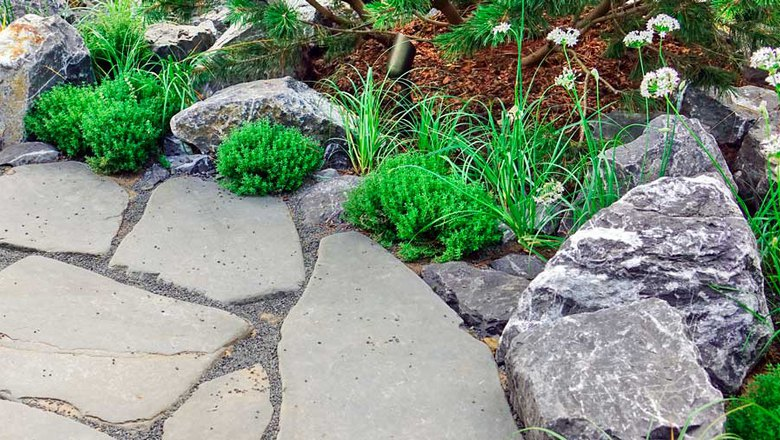rock: (435, 90, 775, 438), (173, 77, 366, 164), (0, 10, 97, 146)
